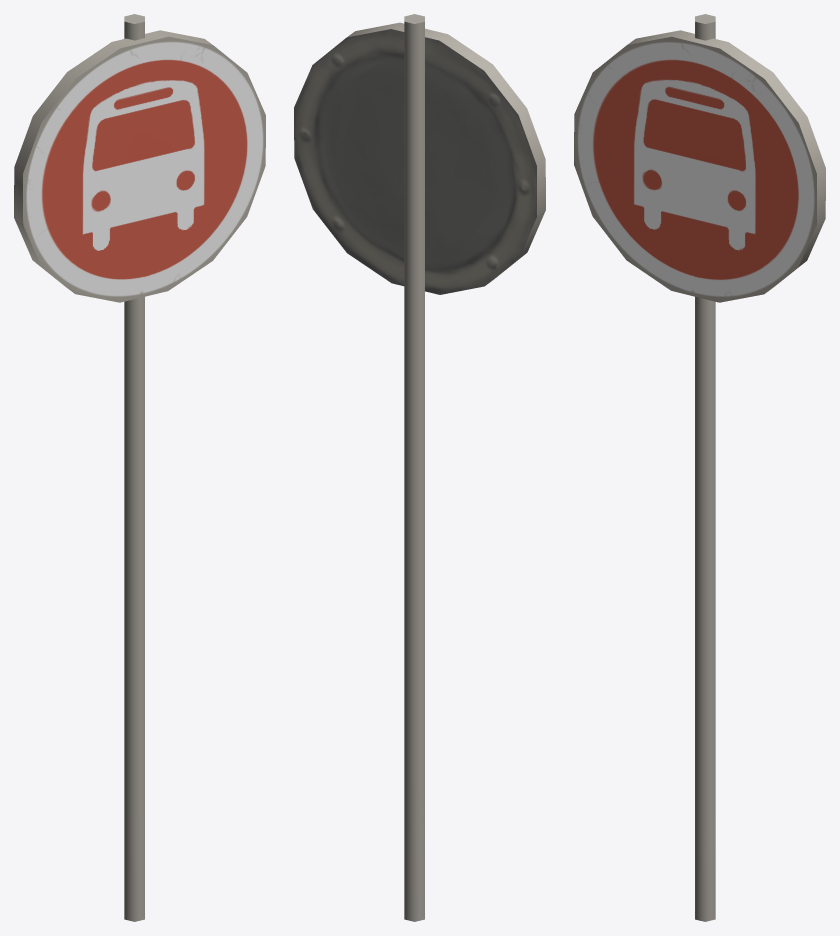
File: BusPad_Sign.fbx
3 renders of one model, left to right at view 1: azimuth 30°, elevation 25°; view 2: azimuth 150°, elevation 25°; view 3: azimuth 330°, elevation 25°, orthographic.
Parts seen in each view (by area): view 1: polySurface2, polySurface1; view 2: polySurface2, polySurface1; view 3: polySurface2, polySurface1.
Part boxes in pixels (x1,y1,x2,y2): polySurface2: (14,30,265,302); polySurface1: (124,14,144,921); polySurface2: (294,22,545,294); polySurface1: (404,14,424,921); polySurface2: (574,30,825,302); polySurface1: (695,14,715,921).
Bounding box in the file's own units: 1.7 × 6 × 0.1799.
1 material, 1 textured.
